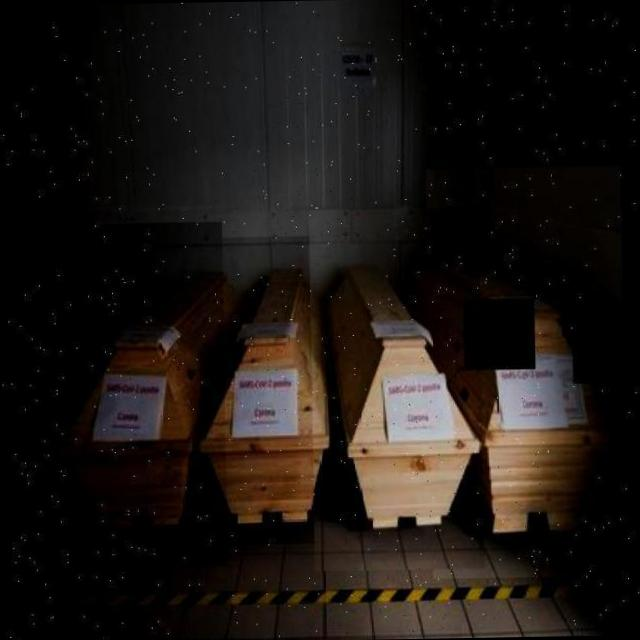box: (426, 166, 627, 578), (308, 207, 486, 570), (54, 221, 228, 568), (190, 235, 332, 546)
